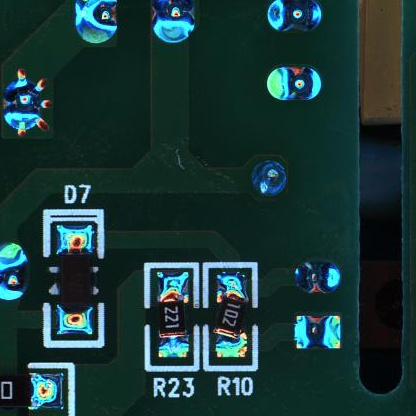spot: (1, 66, 52, 138), (266, 65, 323, 101), (75, 1, 119, 46), (292, 313, 343, 351), (150, 1, 195, 44), (266, 1, 323, 34), (1, 241, 29, 307), (294, 260, 344, 295), (251, 158, 289, 198)
